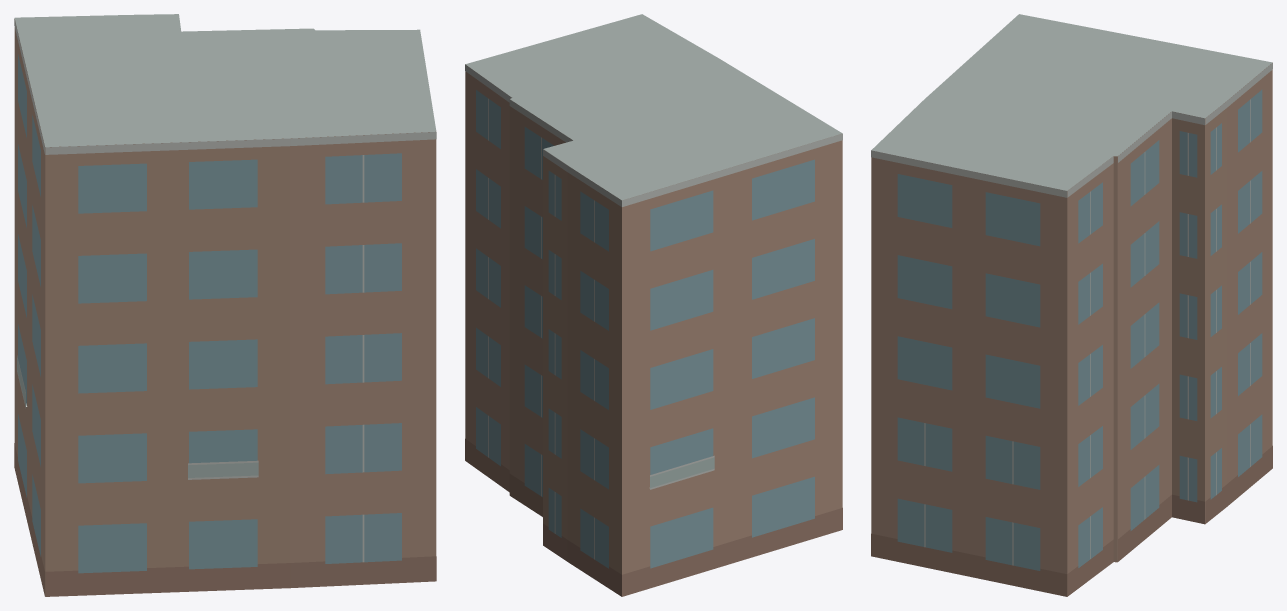
Rendered from survey-upis-32755556.glb.
3 views of the same model, side by side, from view 1: azimuth 30°, elevation 25°; view 2: azimuth 150°, elevation 25°; view 3: azimuth 270°, elevation 25° (orthographic). The views are drawn at different scales.
Parts seen in each view (by area): view 1: survey-upis-32755556.tmp; view 2: survey-upis-32755556.tmp; view 3: survey-upis-32755556.tmp.
Part boxes in pixels (<box>): survey-upis-32755556.tmp: <box>14,14,436,596</box>; survey-upis-32755556.tmp: <box>465,14,842,596</box>; survey-upis-32755556.tmp: <box>871,14,1272,596</box>.
Size of the model in its own units: 13.38 by 14.3 by 12.83.
